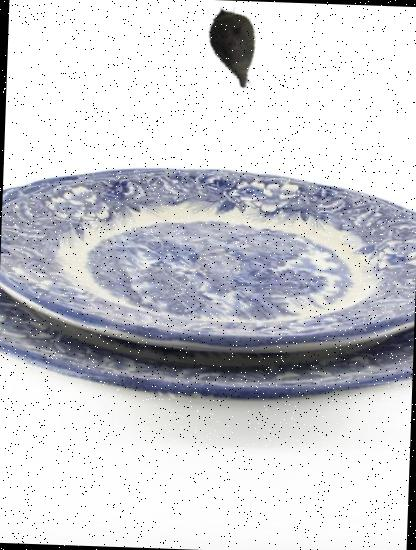Beetroot: (190, 3, 280, 92)
